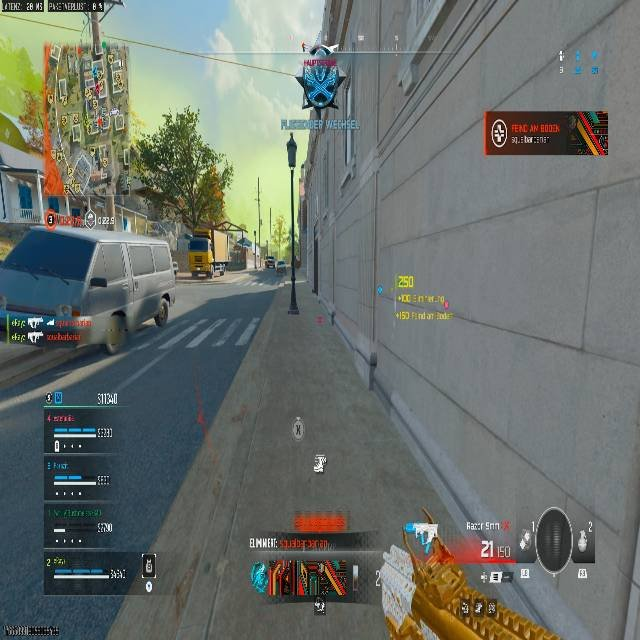player: (294, 42, 347, 111)
